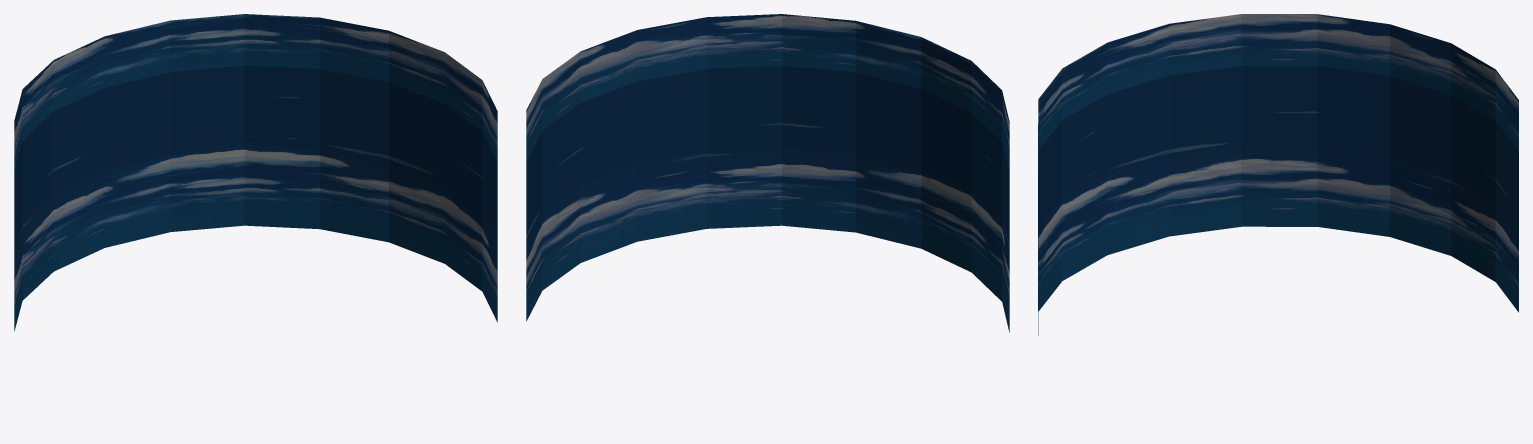
Rendered from vrcorn.glb.
3 views of the same model, side by side, from view 1: azimuth 30°, elevation 25°; view 2: azimuth 150°, elevation 25°; view 3: azimuth 270°, elevation 25° (orthographic).
Parts seen in each view (by area): view 1: polygon0; view 2: polygon0; view 3: polygon0.
Boxes of the visible parts, x1,y1,x2,y2 form: polygon0: (14, 14, 497, 331); polygon0: (526, 14, 1009, 332); polygon0: (1038, 14, 1518, 335).
Bounding box in the file's own units: 3110 × 1736 × 3110.
1 material, 1 textured.
